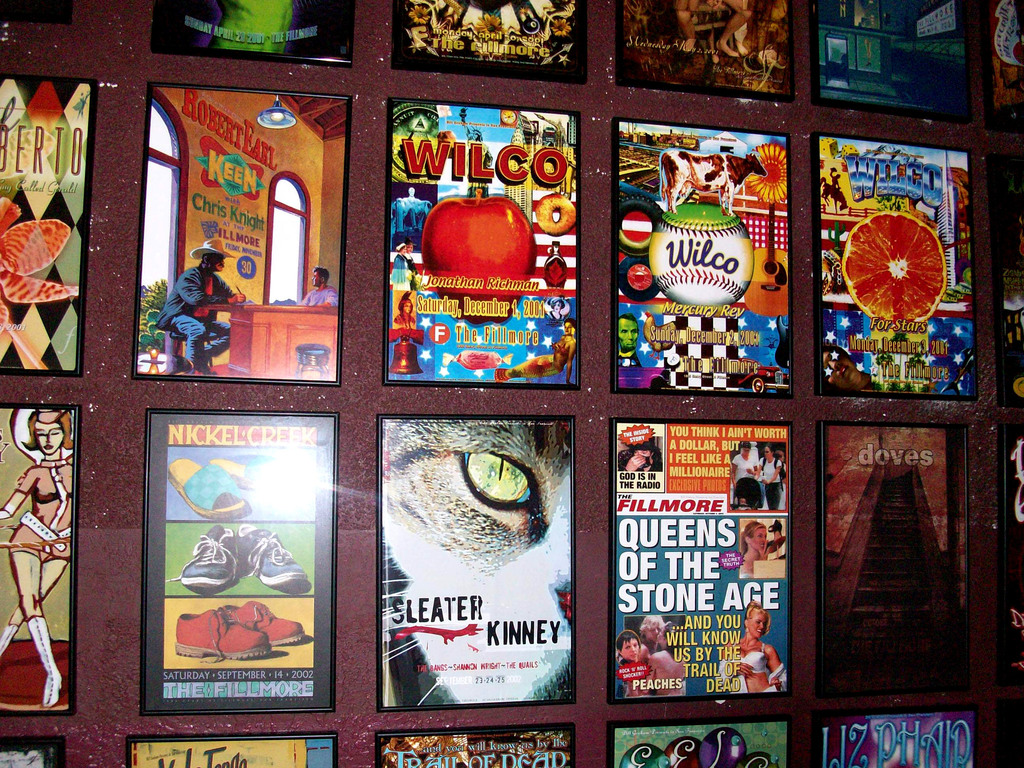Apple: (432, 182, 535, 284)
